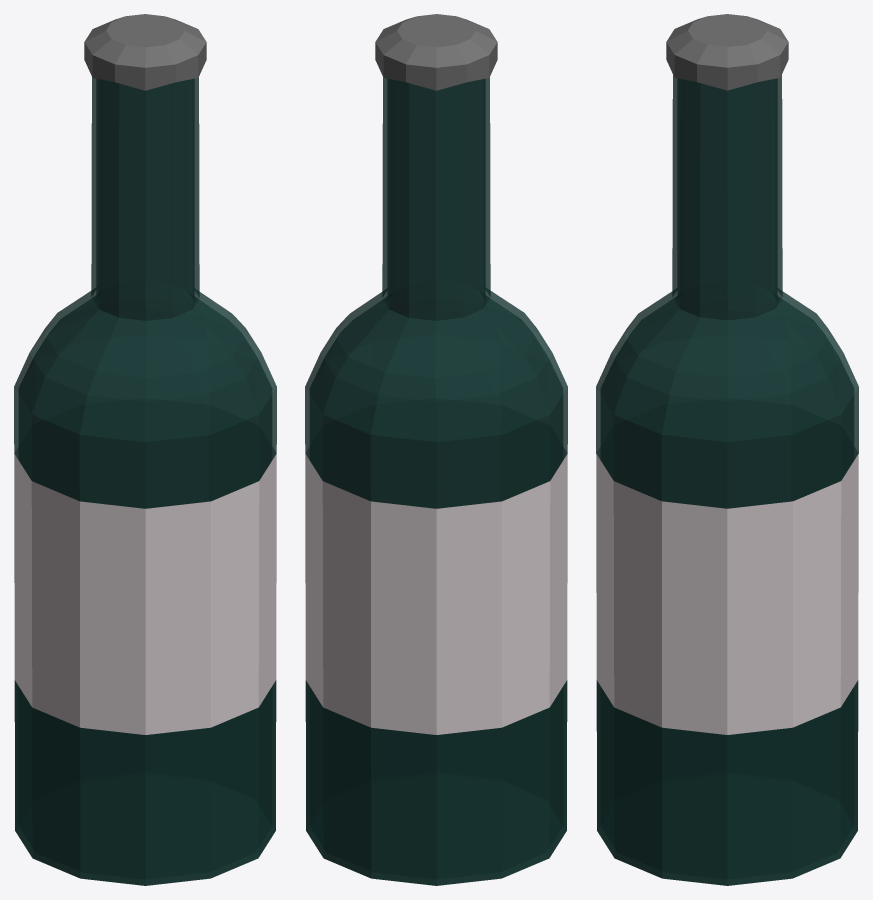
File: Beer Bottle 1.fbx
The picture shows the model from 3 angles, left to right: view 1: azimuth 30°, elevation 25°; view 2: azimuth 150°, elevation 25°; view 3: azimuth 270°, elevation 25°; orthographic projection.
Parts seen in each view (by area): view 1: Beer Bottle, Bottle Cap; view 2: Beer Bottle, Bottle Cap; view 3: Beer Bottle, Bottle Cap.
Part boxes in pixels (x1=…): Beer Bottle: x1=14, y1=77, x2=276, y2=885; Bottle Cap: x1=84, y1=14, x2=206, y2=90; Beer Bottle: x1=305, y1=77, x2=567, y2=885; Bottle Cap: x1=375, y1=14, x2=497, y2=90; Beer Bottle: x1=596, y1=75, x2=858, y2=885; Bottle Cap: x1=666, y1=14, x2=788, y2=90.
Bounding box in the file's own units: 115 × 386 × 115.
